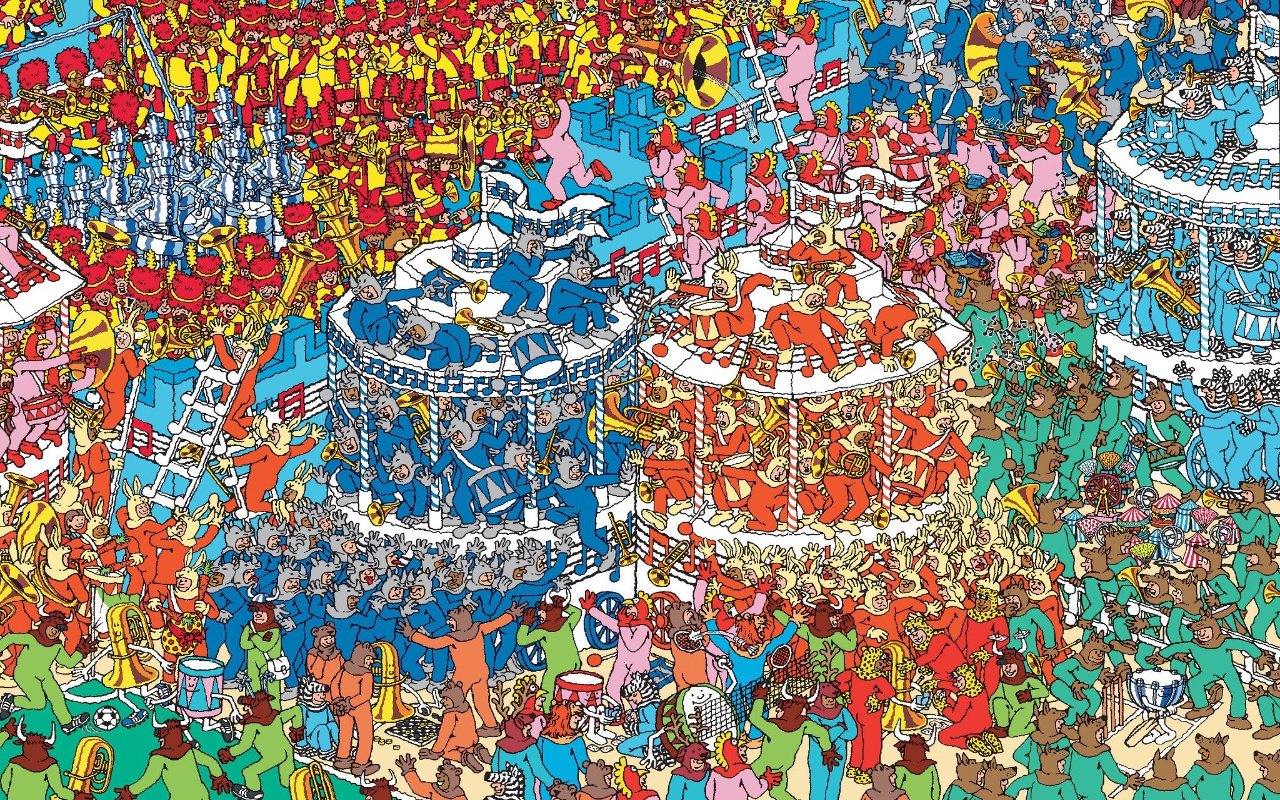waldo: (1070, 221, 1096, 257)
